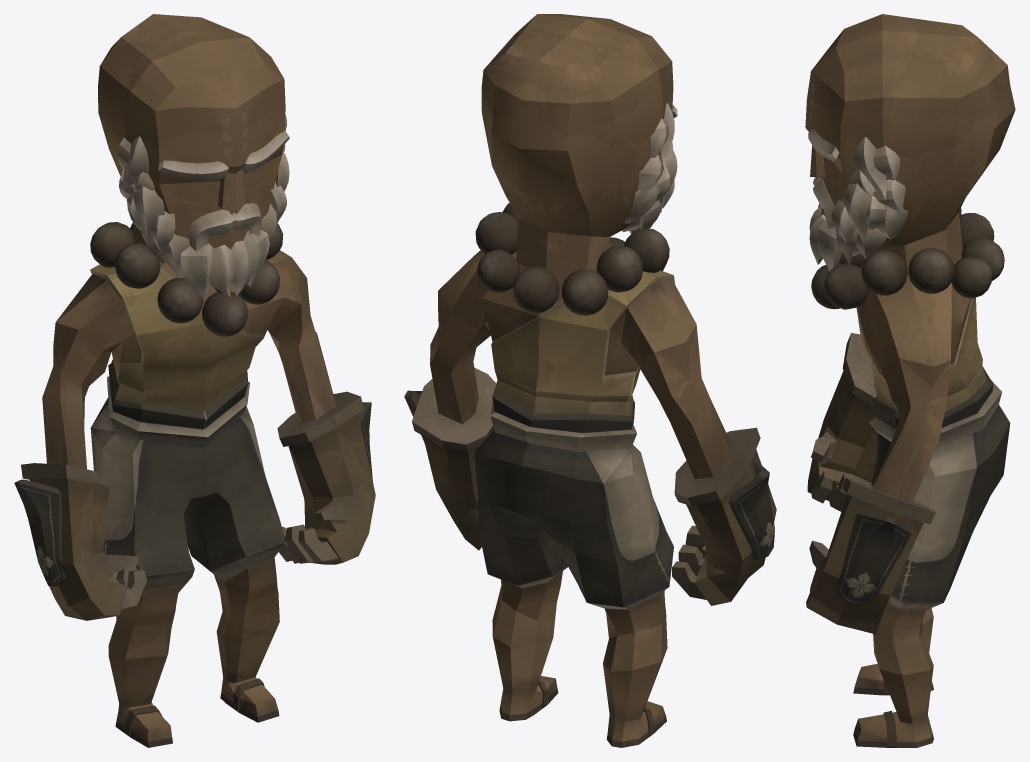
File: Monk.glb
3 views of the same model, side by side, from view 1: azimuth 30°, elevation 25°; view 2: azimuth 150°, elevation 25°; view 3: azimuth 270°, elevation 25° (orthographic). The views are drawn at different scales.
Parts seen in each view (by area): view 1: Monk__ncl1_29.004, Monk.001__ncl1_29.005; view 2: Monk__ncl1_29.004, Monk.001__ncl1_29.005; view 3: Monk__ncl1_29.004, Monk.001__ncl1_29.005.
Boxes of the visible parts, left/top/right/bottom form: Monk__ncl1_29.004: left=14, top=14, right=375, bottom=747; Monk.001__ncl1_29.005: left=90, top=114, right=289, bottom=336; Monk__ncl1_29.004: left=404, top=14, right=776, bottom=747; Monk.001__ncl1_29.005: left=475, top=103, right=677, bottom=315; Monk__ncl1_29.004: left=805, top=14, right=1015, bottom=747; Monk.001__ncl1_29.005: left=808, top=129, right=1004, bottom=309.
Size of the model in its own units: 1.58 by 2.9 by 0.8084.
Materials: 1 (1 with a texture image).
